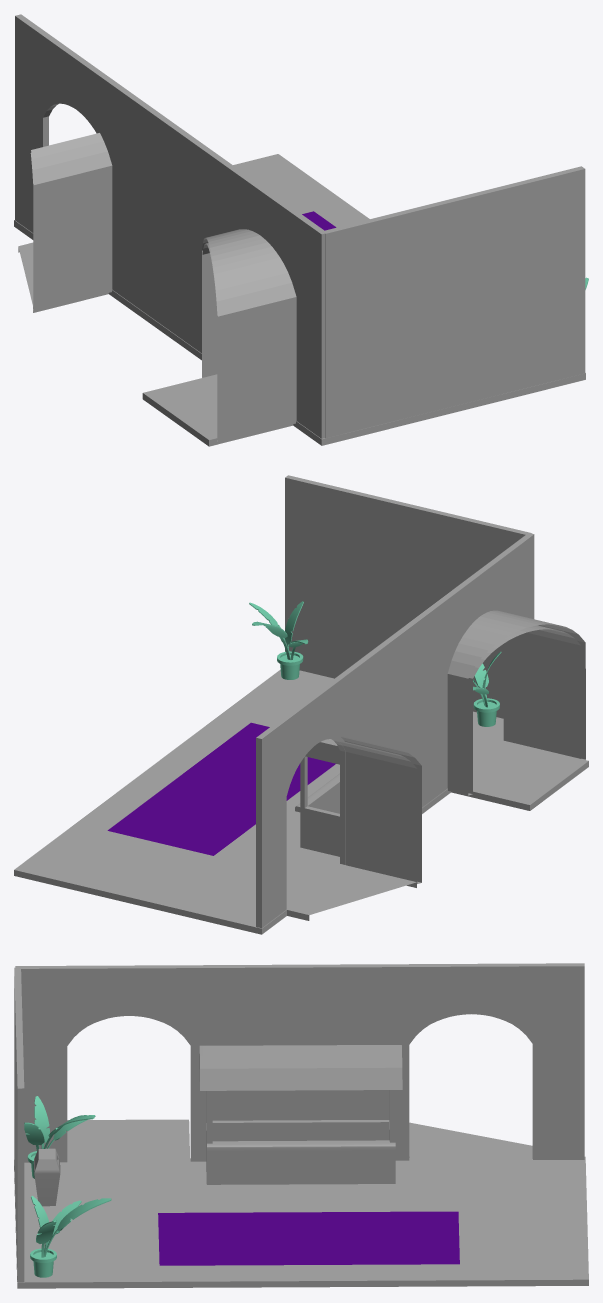
The model's file is Test_ArcadeEntrance 3.fbx.
3 views of the same model, one above another, from view 1: azimuth 30°, elevation 25°; view 2: azimuth 150°, elevation 25°; view 3: azimuth 270°, elevation 25° (orthographic). The views are drawn at different scales.
Parts seen in each view (by area): view 1: pCube3, polySurface8, polySurface10, polySurface9, polySurface3; view 2: polySurface3, polySurface8, pCube3, polySurface10, Rug_bitchasklfjf_v, polySurface9, polySurface1, Big_plant1, Big_plant; view 3: polySurface8, polySurface3, polySurface1, Rug_bitchasklfjf_v, pCube3, Big_plant1, Big_plant, pCube17.
Boxes of the visible parts, x1,y1,x2,y2 form: pCube3: [322, 166, 585, 438]; polySurface8: [15, 14, 327, 438]; polySurface10: [202, 229, 296, 442]; polySurface9: [30, 133, 112, 311]; polySurface3: [14, 154, 585, 446]; polySurface3: [14, 669, 588, 934]; polySurface8: [256, 533, 534, 928]; pCube3: [285, 475, 531, 718]; polySurface10: [447, 610, 585, 795]; Rug_bitchasklfjf_v: [107, 722, 335, 855]; polySurface9: [336, 735, 421, 883]; polySurface1: [295, 739, 339, 856]; Big_plant1: [249, 601, 308, 679]; Big_plant: [473, 652, 501, 726]; polySurface8: [15, 963, 584, 1162]; polySurface3: [14, 1119, 588, 1288]; polySurface1: [199, 1045, 402, 1184]; Rug_bitchasklfjf_v: [158, 1211, 459, 1265]; pCube3: [14, 967, 24, 1282]; Big_plant1: [30, 1196, 111, 1277]; Big_plant: [24, 1096, 95, 1178]; pCube17: [34, 1148, 60, 1206].
Size of the model in its own units: 940 by 505 by 1318.
